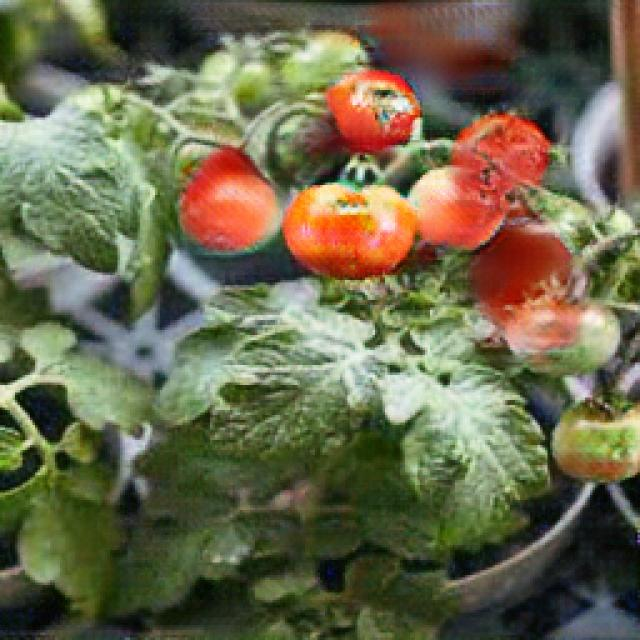overripe tomato: (285, 185, 414, 278), (327, 73, 421, 153)
